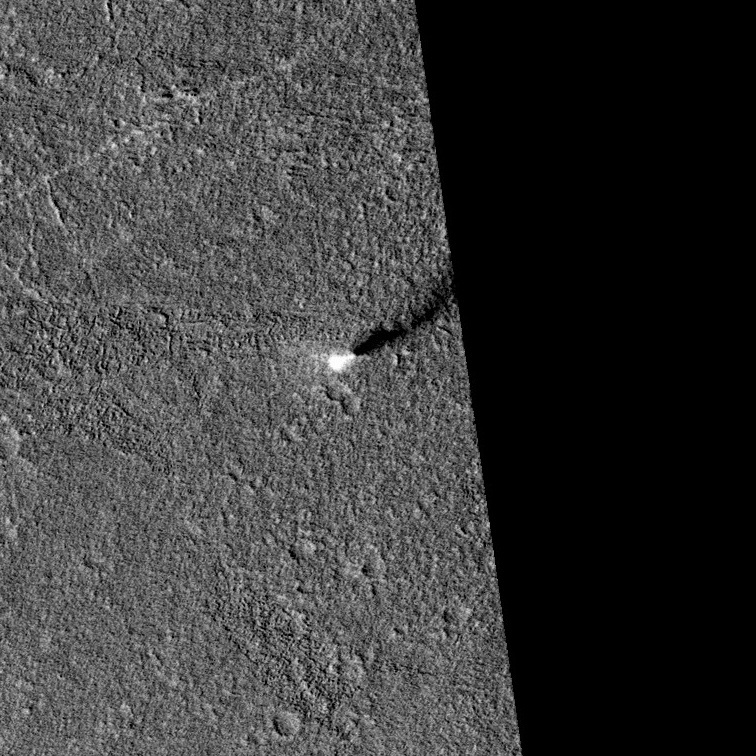dust_devil: (322, 277, 449, 378)
